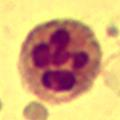neutrophil: (20, 19, 106, 105)
